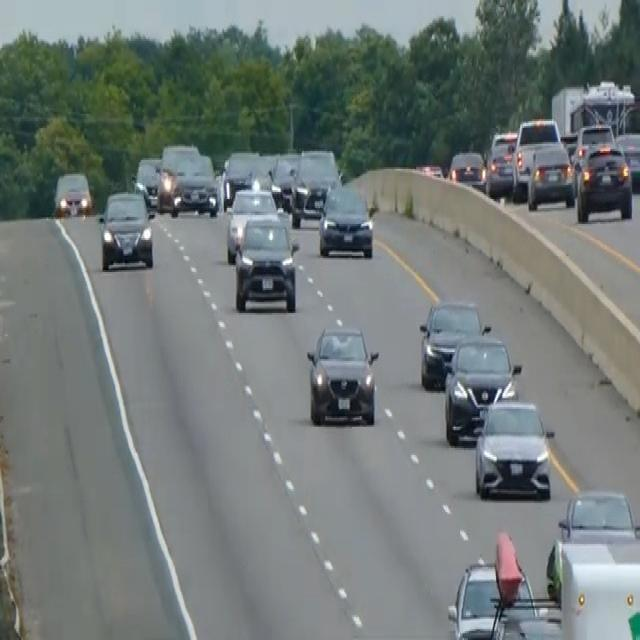car: (545, 487, 638, 601), (446, 530, 536, 636), (443, 329, 521, 444), (473, 396, 554, 499), (233, 211, 298, 313), (418, 297, 483, 389), (574, 139, 633, 222), (97, 187, 154, 270), (447, 558, 506, 636), (510, 116, 564, 199), (318, 181, 374, 258), (224, 185, 279, 263), (290, 148, 340, 224), (526, 140, 575, 212), (171, 151, 218, 217), (156, 142, 199, 212), (571, 121, 615, 188), (221, 148, 259, 208), (484, 130, 517, 196), (53, 169, 92, 219), (270, 149, 300, 210), (447, 148, 486, 190), (615, 130, 639, 190), (133, 155, 161, 206)
jeep: (305, 322, 380, 426)
truck: (550, 76, 637, 146)
